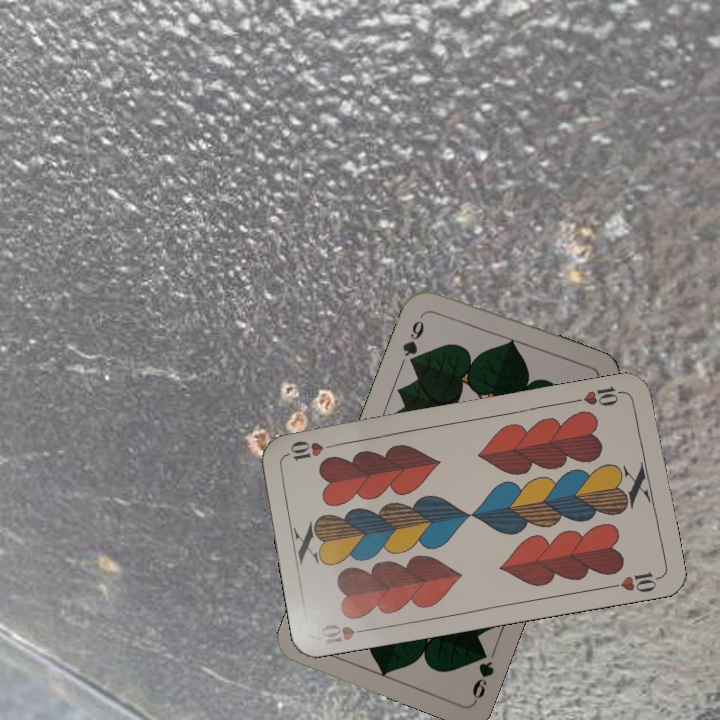G9: (398, 309, 428, 369), (468, 643, 497, 704)
H10: (317, 619, 375, 648), (569, 382, 628, 409)
